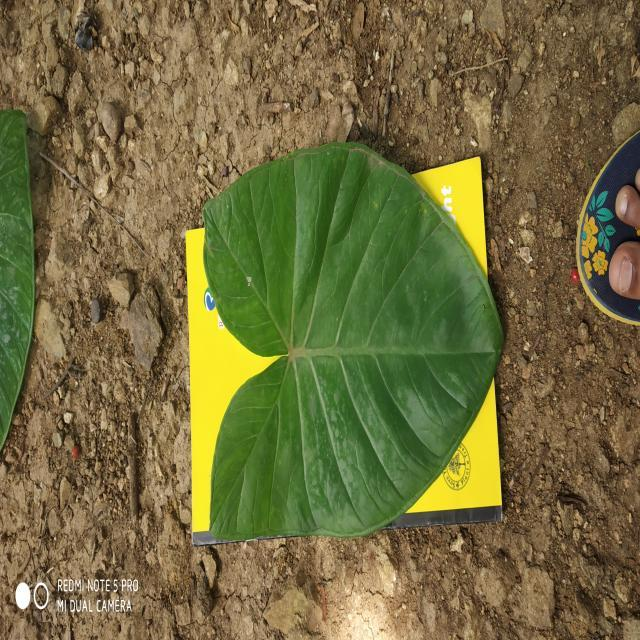leaf: (191, 140, 504, 545), (0, 108, 36, 454)
